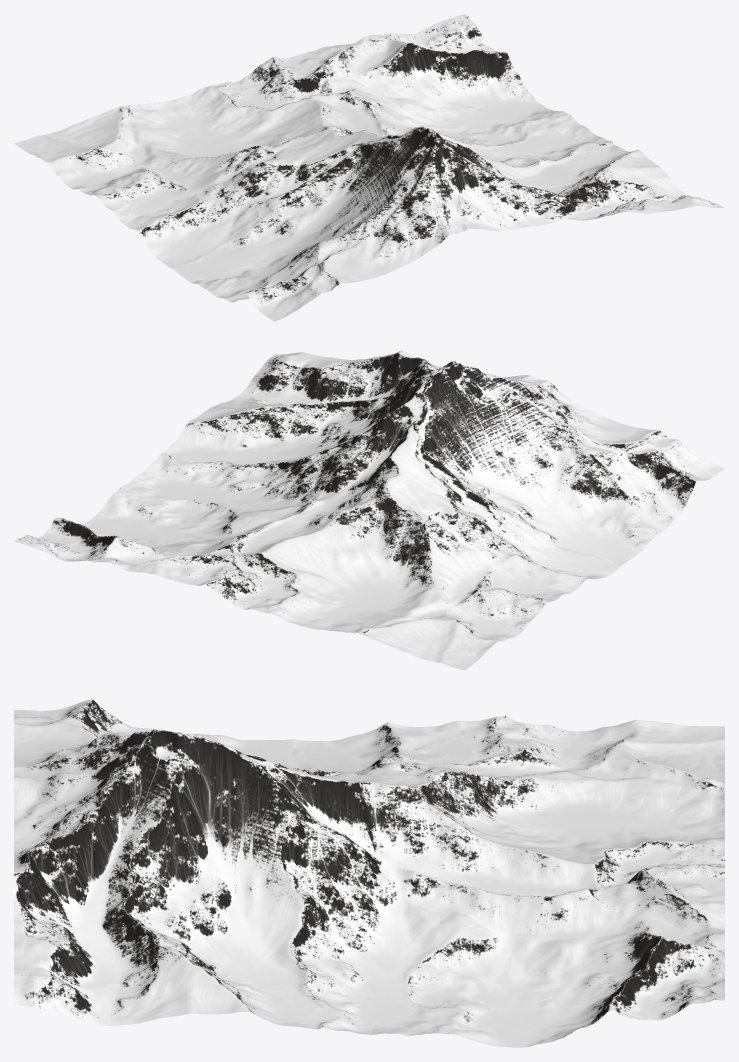
The picture shows the model from 3 angles, top to bottom: view 1: azimuth 30°, elevation 25°; view 2: azimuth 150°, elevation 25°; view 3: azimuth 270°, elevation 25°; orthographic projection. The views are drawn at different scales.
Parts seen in each view (by area): view 1: Geode; view 2: Geode; view 3: Geode.
Boxes of the visible parts, bbox=[...] form: Geode: bbox=[14, 14, 723, 321]; Geode: bbox=[14, 350, 724, 670]; Geode: bbox=[14, 699, 724, 1047].
Size of the model in its own units: 4965 by 1255 by 4965.
